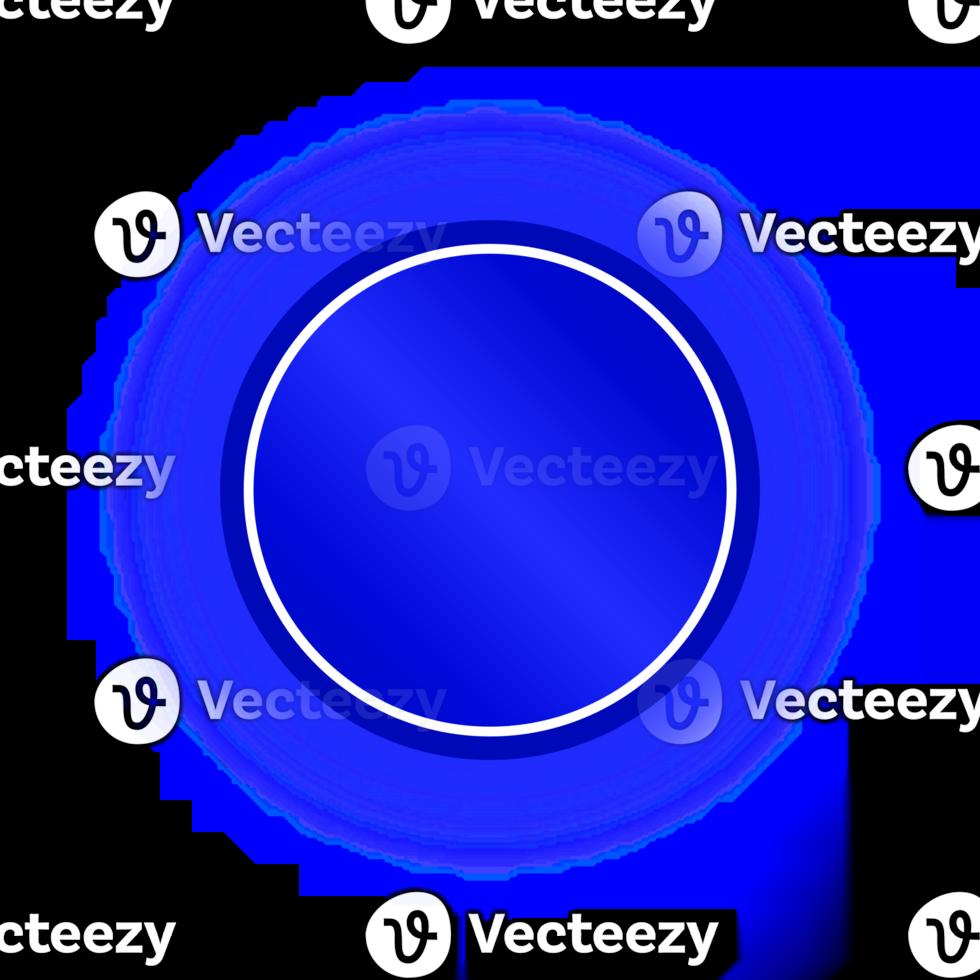blue_circle: (135, 150, 848, 818)
